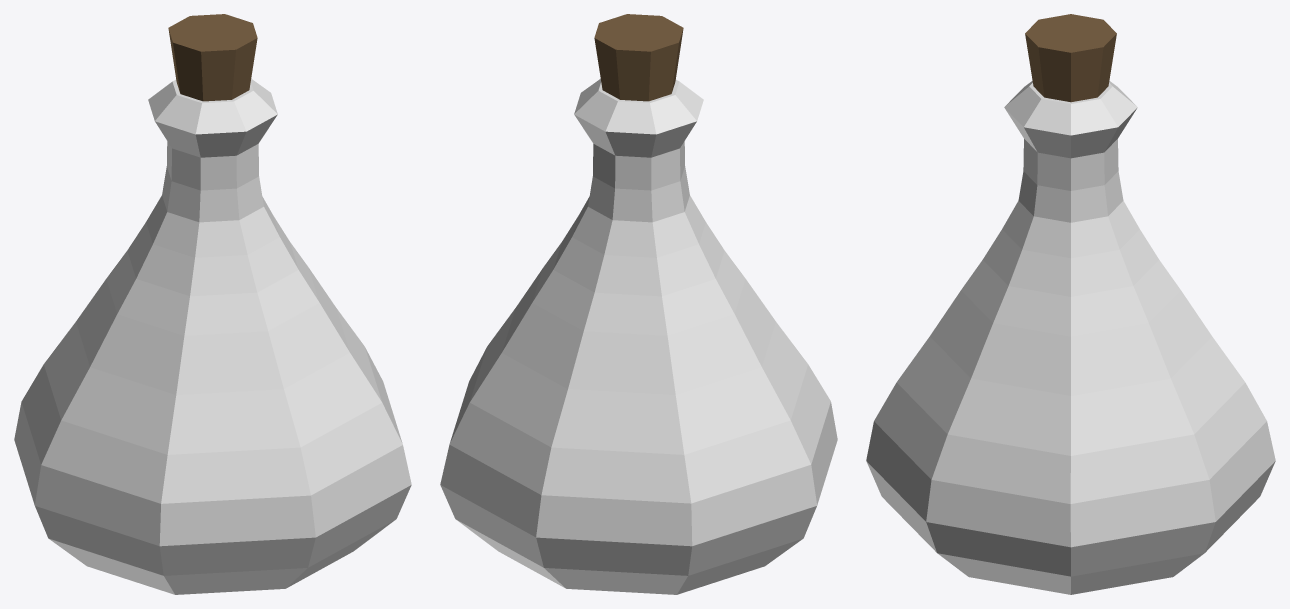
The model's file is flask.fbx.
3 views of the same model, side by side, from view 1: azimuth 30°, elevation 25°; view 2: azimuth 150°, elevation 25°; view 3: azimuth 270°, elevation 25° (orthographic).
Parts seen in each view (by area): view 1: Cylinder; view 2: Cylinder; view 3: Cylinder.
Part boxes in pixels (x1=…): Cylinder: x1=14, y1=14, x2=411, y2=594; Cylinder: x1=440, y1=14, x2=837, y2=594; Cylinder: x1=866, y1=14, x2=1275, y2=594.
Size of the model in its own units: 347 by 467 by 347.
